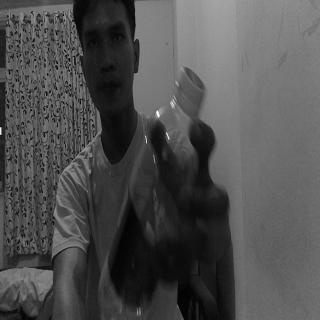plastic_bottles: (95, 60, 206, 320)
